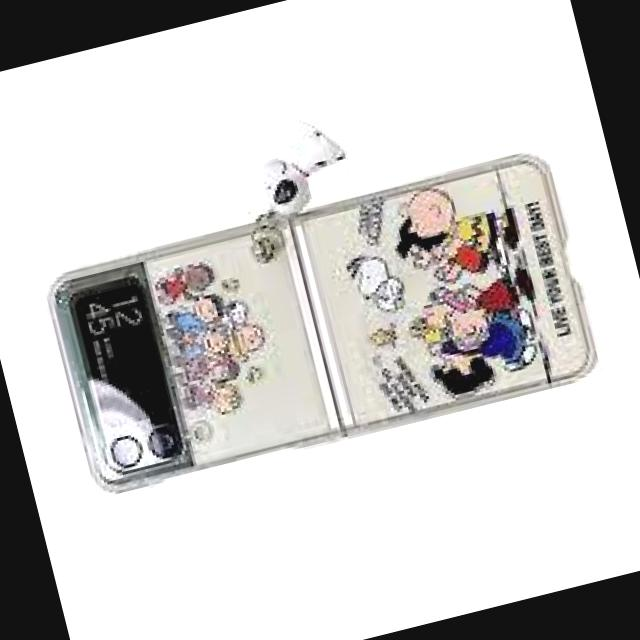lens_back: (98, 426, 150, 477), (140, 416, 191, 466)
phone: (37, 141, 604, 500)
